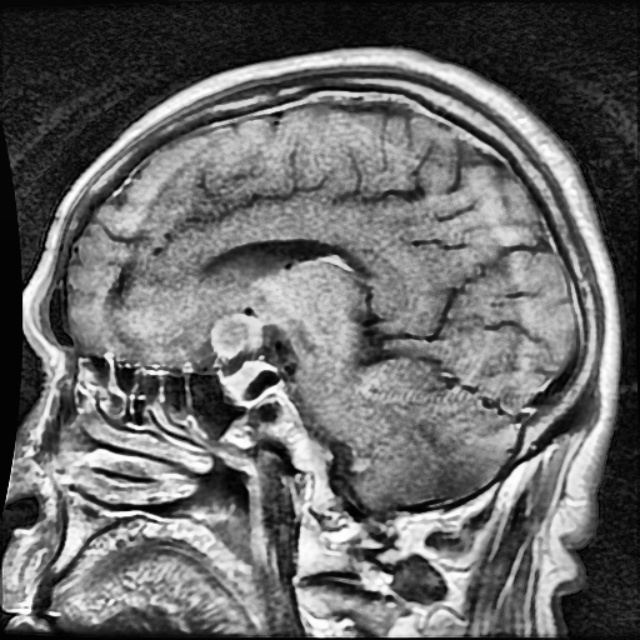Pituitary: (210, 310, 264, 357)
